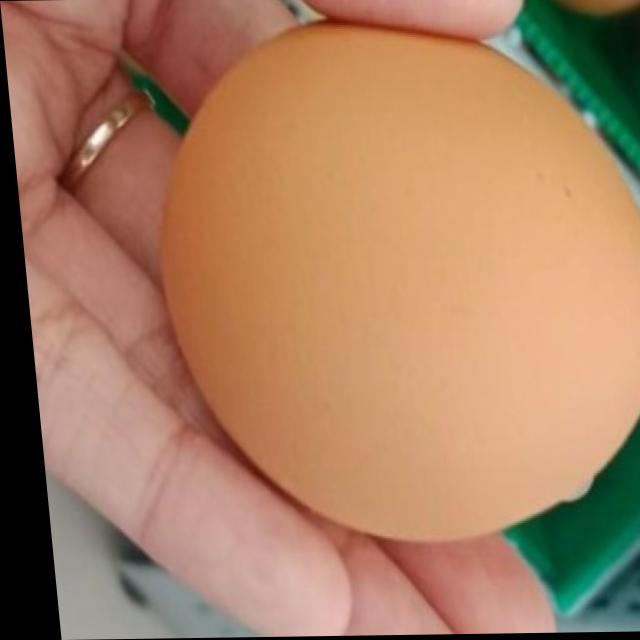fresh: (156, 32, 640, 536)
